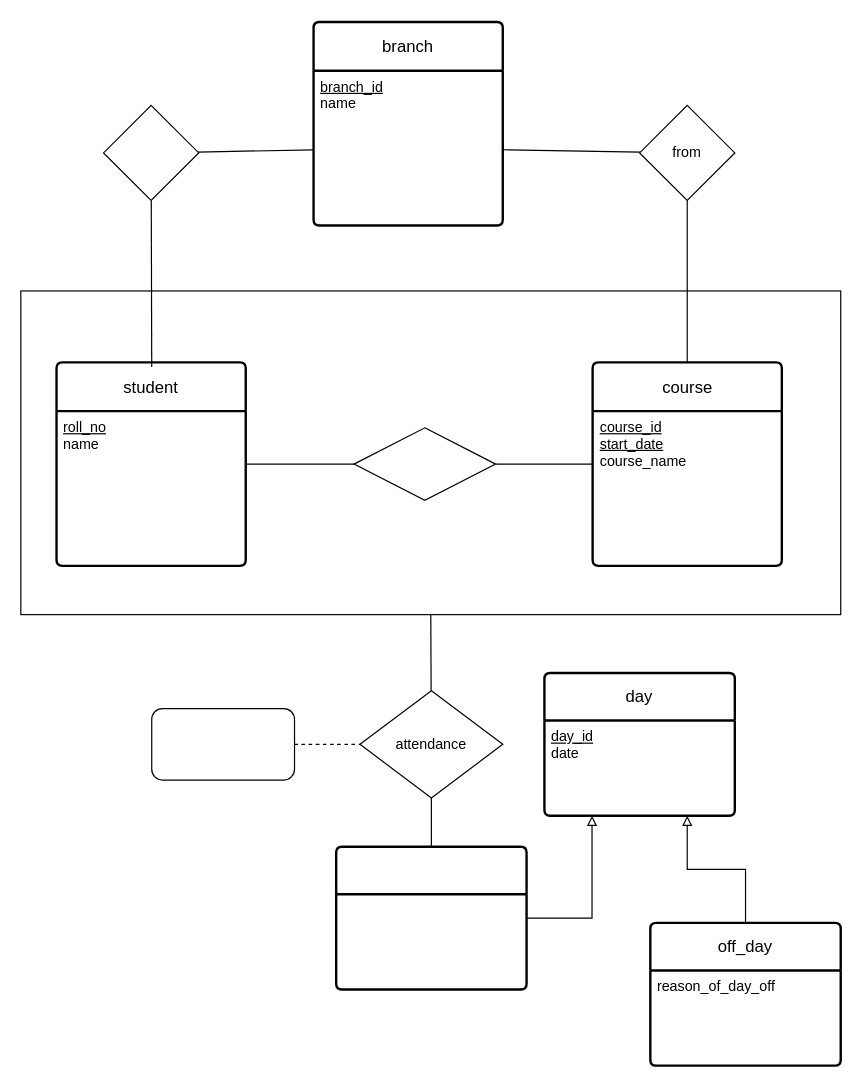
This 863x1086 diagram has some shape labels left out. Here are the shapes that lost their labels. From the top down, the centre of each, then its label:
At point 150,152: "in".
At point 424,463: "taken".
At point 223,743: "reason_of_absence".
At point 430,917: "working_day".
